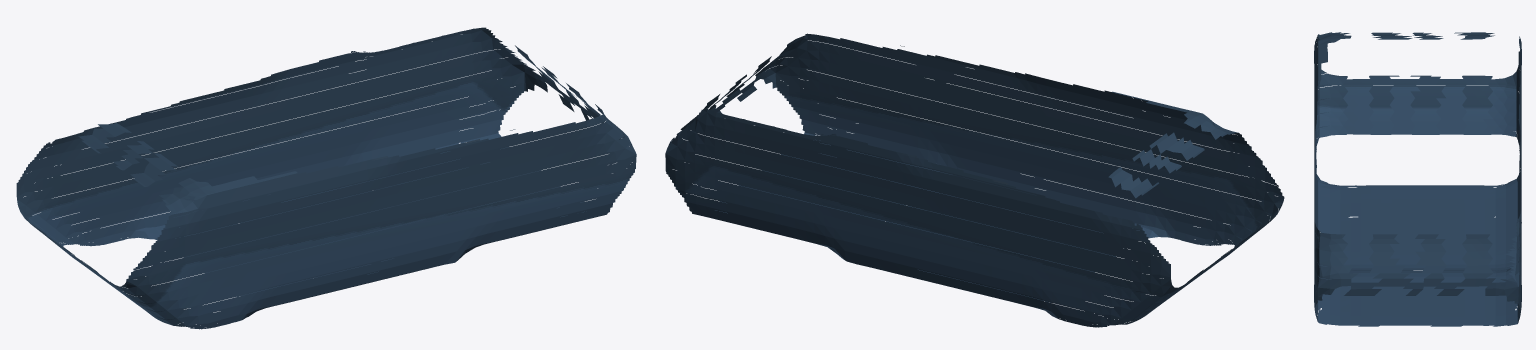
The picture shows the model from 3 angles, left to right: view 1: azimuth 30°, elevation 25°; view 2: azimuth 150°, elevation 25°; view 3: azimuth 270°, elevation 25°; orthographic projection. The views are drawn at different scales.
Visible parts, largest first — view 1: reconstruction; view 2: reconstruction; view 3: reconstruction.
Boxes of the visible parts, bbox=[...] form: reconstruction: bbox=[16, 27, 636, 329]; reconstruction: bbox=[665, 33, 1284, 327]; reconstruction: bbox=[1314, 32, 1521, 326].
Size of the model in its own units: 1 by 0.2911 by 0.3832.
1 material, 1 textured.
